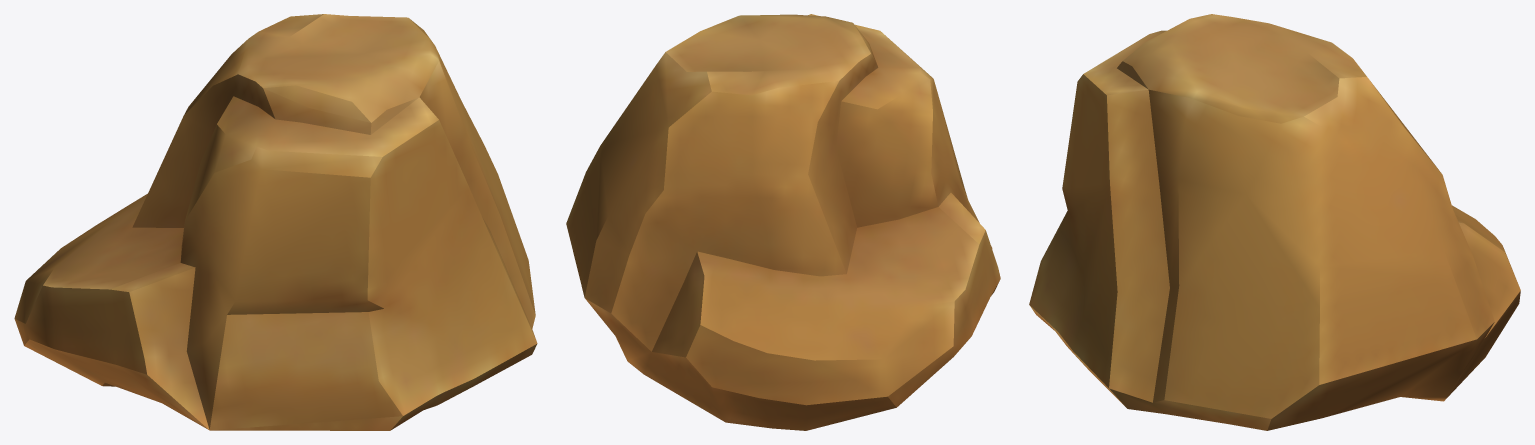
The model's file is rockdes1.glb.
3 renders of one model, left to right at view 1: azimuth 30°, elevation 25°; view 2: azimuth 150°, elevation 25°; view 3: azimuth 270°, elevation 25°, orthographic. The views are drawn at different scales.
Visible parts, largest first — view 1: Rock_Medium_1; view 2: Rock_Medium_1; view 3: Rock_Medium_1.
Boxes of the visible parts, box(x1,y1,x2,y2) form: Rock_Medium_1: box(14, 14, 537, 430); Rock_Medium_1: box(566, 14, 1000, 430); Rock_Medium_1: box(1029, 14, 1520, 430).
Size of the model in its own units: 3.23 by 2.26 by 2.99.
Materials: 1 (1 with a texture image).
